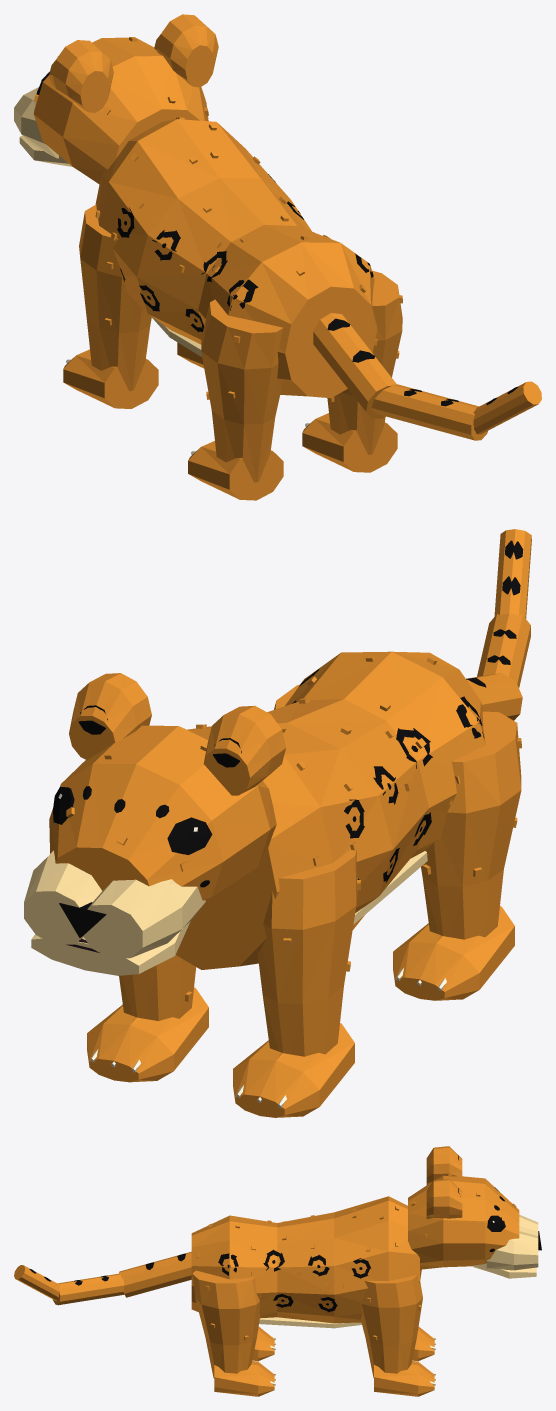
The model's file is Jaguar.fbx.
3 views of the same model, one above another, from view 1: azimuth 30°, elevation 25°; view 2: azimuth 150°, elevation 25°; view 3: azimuth 270°, elevation 25° (orthographic). The views are drawn at different scales.
Visible parts, largest first — view 1: Import3D_Core, Import3D_LegBL, Import3D_Head, Import3D_LegFL, Import3D_LegBR, Import3D_Tail, Import3D_Tail1, Import3D_EarL, Import3D_EarR, Import3D_LegFLFoot, Import3D_Tail2; view 2: Import3D_Core, Import3D_Head, Import3D_LegBL, Import3D_LegFL, Import3D_LegFRFoot, Import3D_LegFLFoot, Import3D_EarL, Import3D_EarR, Import3D_LegFR, Import3D_Jaw, Import3D_Tail2, Import3D_Tail1 (+2 smaller); view 3: Import3D_Core, Import3D_Head, Import3D_LegBR, Import3D_LegFR, Import3D_Tail, Import3D_LegFRFoot, Import3D_Tail1, Import3D_EarR, Import3D_EarL, Import3D_Tail2, Import3D_LegBL, Import3D_LegFLFoot (+1 smaller).
Boxes of the visible parts, x1,y1,x2,y2 form: Import3D_Core: [95, 117, 377, 398]; Import3D_LegBL: [188, 299, 283, 500]; Import3D_Head: [14, 37, 208, 184]; Import3D_LegFL: [79, 204, 151, 391]; Import3D_LegBR: [302, 270, 402, 472]; Import3D_Tail: [313, 313, 396, 418]; Import3D_Tail1: [371, 384, 487, 440]; Import3D_EarL: [49, 40, 113, 112]; Import3D_EarR: [154, 14, 218, 87]; Import3D_LegFLFoot: [63, 349, 158, 408]; Import3D_Tail2: [473, 381, 541, 434]; Import3D_Core: [175, 651, 485, 969]; Import3D_Head: [24, 725, 276, 958]; Import3D_LegBL: [393, 711, 521, 1000]; Import3D_LegFL: [257, 849, 361, 1056]; Import3D_LegFRFoot: [87, 987, 208, 1082]; Import3D_LegFLFoot: [233, 1023, 354, 1117]; Import3D_EarL: [203, 705, 285, 795]; Import3D_EarR: [69, 673, 151, 760]; Import3D_LegFR: [119, 955, 196, 1020]; Import3D_Jaw: [31, 921, 190, 975]; Import3D_Tail2: [494, 529, 531, 618]; Import3D_Tail1: [477, 613, 530, 687]; Import3D_Core: [191, 1196, 419, 1328]; Import3D_Head: [408, 1174, 541, 1270]; Import3D_LegBR: [192, 1270, 276, 1396]; Import3D_LegFR: [360, 1275, 422, 1377]; Import3D_Tail: [119, 1251, 191, 1297]; Import3D_LegFRFoot: [374, 1361, 436, 1396]; Import3D_Tail1: [53, 1273, 124, 1305]; Import3D_EarR: [426, 1179, 462, 1218]; Import3D_EarL: [426, 1146, 462, 1184]; Import3D_Tail2: [14, 1265, 60, 1300]; Import3D_LegBL: [252, 1326, 275, 1361]; Import3D_LegFLFoot: [412, 1326, 435, 1361].
Size of the model in its own units: 101 by 171 by 388.
1 material, 1 textured.
